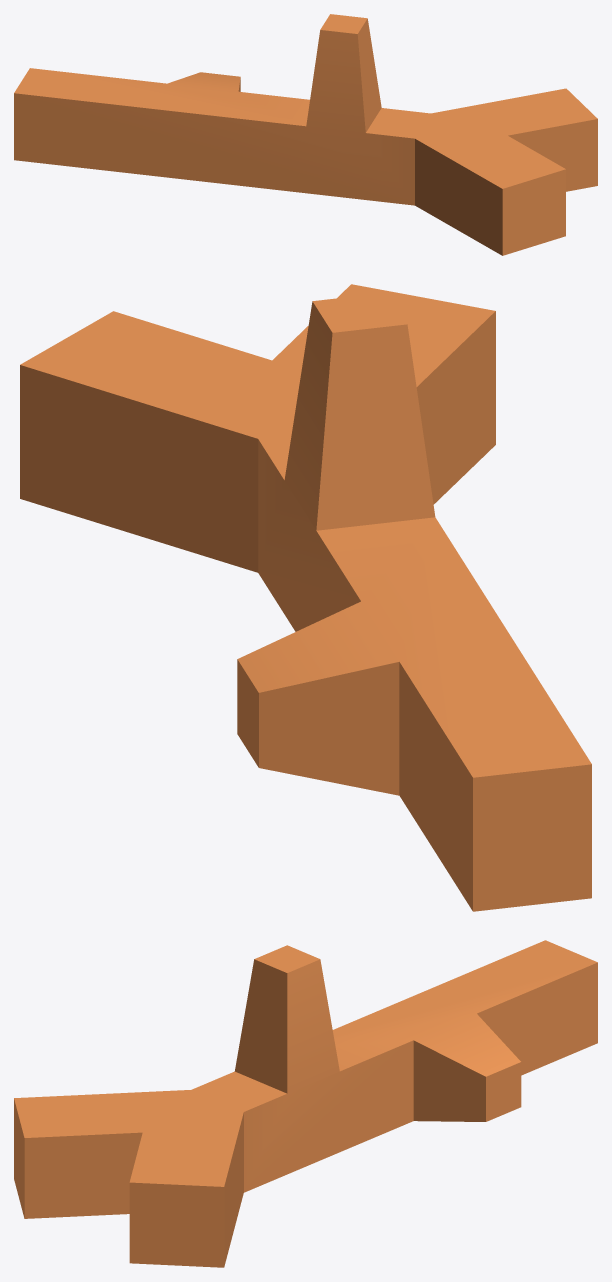
File: resourceWood.dae
3 views of the same model, one above another, from view 1: azimuth 30°, elevation 25°; view 2: azimuth 150°, elevation 25°; view 3: azimuth 270°, elevation 25° (orthographic). The views are drawn at different scales.
Visible parts, largest first — view 1: resourceWood; view 2: resourceWood; view 3: resourceWood.
Boxes of the visible parts, x1,y1,x2,y2 form: resourceWood: [14, 14, 597, 255]; resourceWood: [20, 284, 591, 911]; resourceWood: [14, 940, 597, 1267].
Size of the model in its own units: 0.1711 by 0.0624 by 0.1711.
